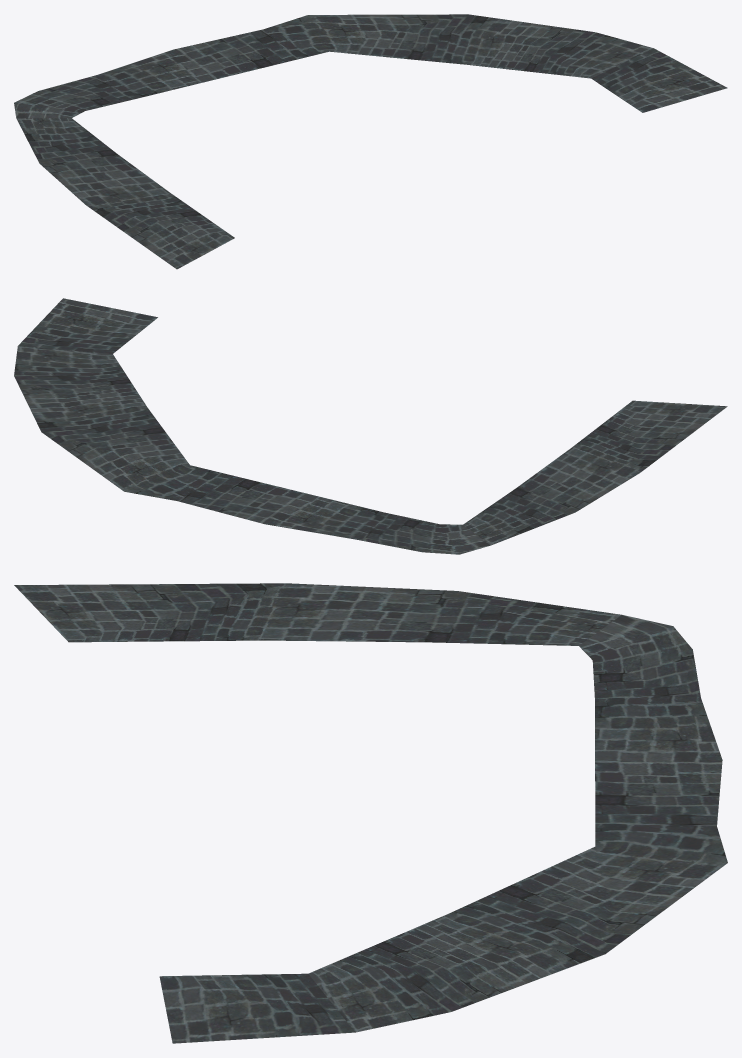
Rendered from blend_brick03.fbx.
The picture shows the model from 3 angles, top to bottom: view 1: azimuth 30°, elevation 25°; view 2: azimuth 150°, elevation 25°; view 3: azimuth 270°, elevation 25°; orthographic projection. The views are drawn at different scales.
Visible parts, largest first — view 1: obj0.002; view 2: obj0.002; view 3: obj0.002.
Part boxes in pixels (x1,y1,x2,y2): obj0.002: (14,14,727,269); obj0.002: (14,298,727,554); obj0.002: (14,583,727,1043).
Size of the model in its own units: 16.76 by 0.0825 by 11.1.
